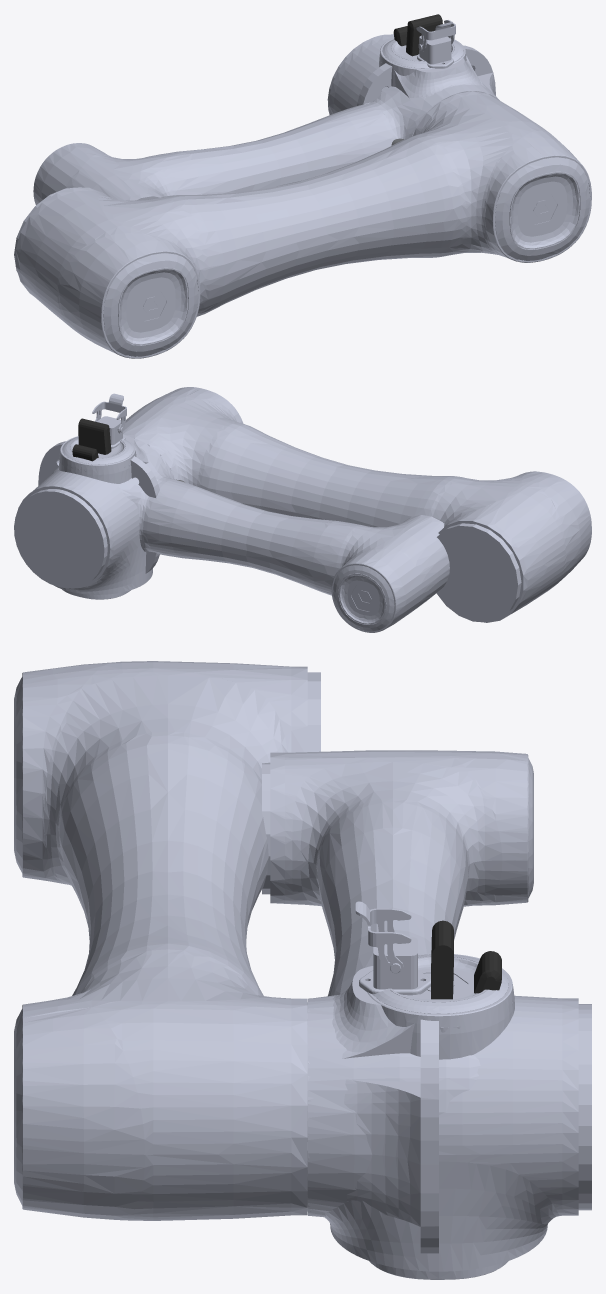
Rendered from arm.glb.
The picture shows the model from 3 angles, top to bottom: view 1: azimuth 30°, elevation 25°; view 2: azimuth 150°, elevation 25°; view 3: azimuth 270°, elevation 25°; orthographic projection. The views are drawn at different scales.
Visible parts, largest first — view 1: b4, b5, b2, b3, b6, b14; view 2: b4, b5, b3, b2, b6, b14; view 3: b4, b5, b3, b2, b6, b14, b7, b11.
Part boxes in pixels (x1,y1,x2,y2): b4: [14, 91, 591, 358]; b5: [33, 83, 499, 204]; b2: [357, 20, 496, 136]; b3: [327, 34, 394, 114]; b6: [379, 38, 466, 86]; b14: [406, 14, 442, 56]; b4: [123, 387, 591, 622]; b5: [50, 438, 449, 632]; b3: [14, 469, 152, 594]; b2: [38, 393, 175, 573]; b6: [59, 436, 136, 483]; b14: [78, 418, 111, 454]; b4: [14, 661, 320, 1220]; b5: [262, 750, 533, 1217]; b3: [307, 995, 591, 1271]; b2: [308, 901, 438, 1253]; b6: [367, 953, 514, 1059]; b14: [431, 920, 453, 999]; b7: [369, 996, 514, 1279]; b11: [474, 951, 501, 993].
Size of the model in its own units: 0.5624 by 0.2101 by 0.3135.
